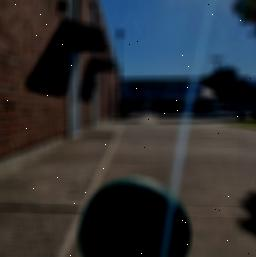algae: (83, 184, 193, 257)
